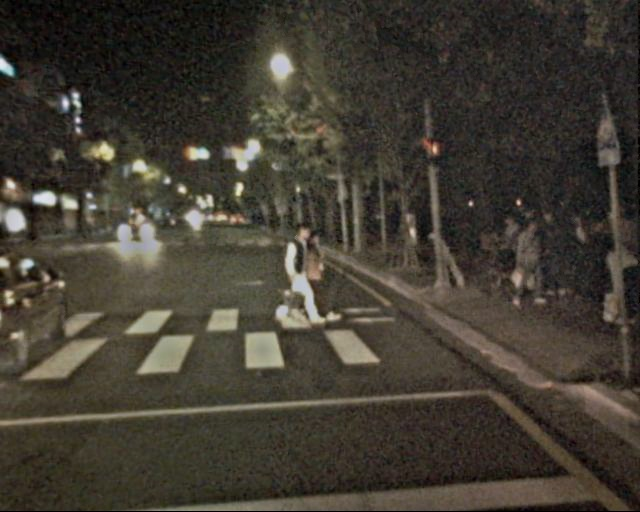person: (272, 222, 316, 330), (506, 209, 561, 295), (596, 231, 637, 330), (290, 232, 330, 329), (552, 212, 591, 306), (509, 221, 547, 313)
